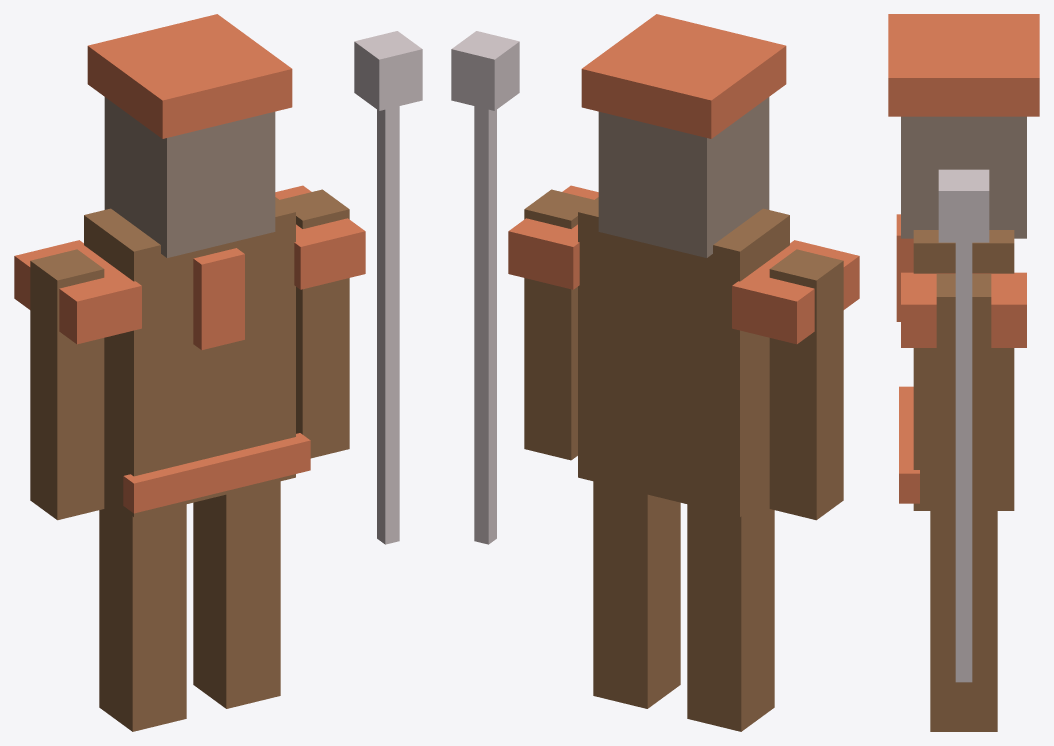
The model's file is 05_isolde_latchward_engineer_under_graveyard.glb.
3 views of the same model, side by side, from view 1: azimuth 30°, elevation 25°; view 2: azimuth 150°, elevation 25°; view 3: azimuth 270°, elevation 25° (orthographic).
Parts seen in each view (by area): view 1: Isolde Latchward, Engineer under Graveyard; view 2: Isolde Latchward, Engineer under Graveyard; view 3: Isolde Latchward, Engineer under Graveyard.
Part boxes in pixels (x1,y1,x2,y2): Isolde Latchward, Engineer under Graveyard: (14,14,422,731); Isolde Latchward, Engineer under Graveyard: (451,14,859,731); Isolde Latchward, Engineer under Graveyard: (888,14,1039,731).
Bounding box in the file's own units: 0.9561 × 1.61 × 0.3391.
